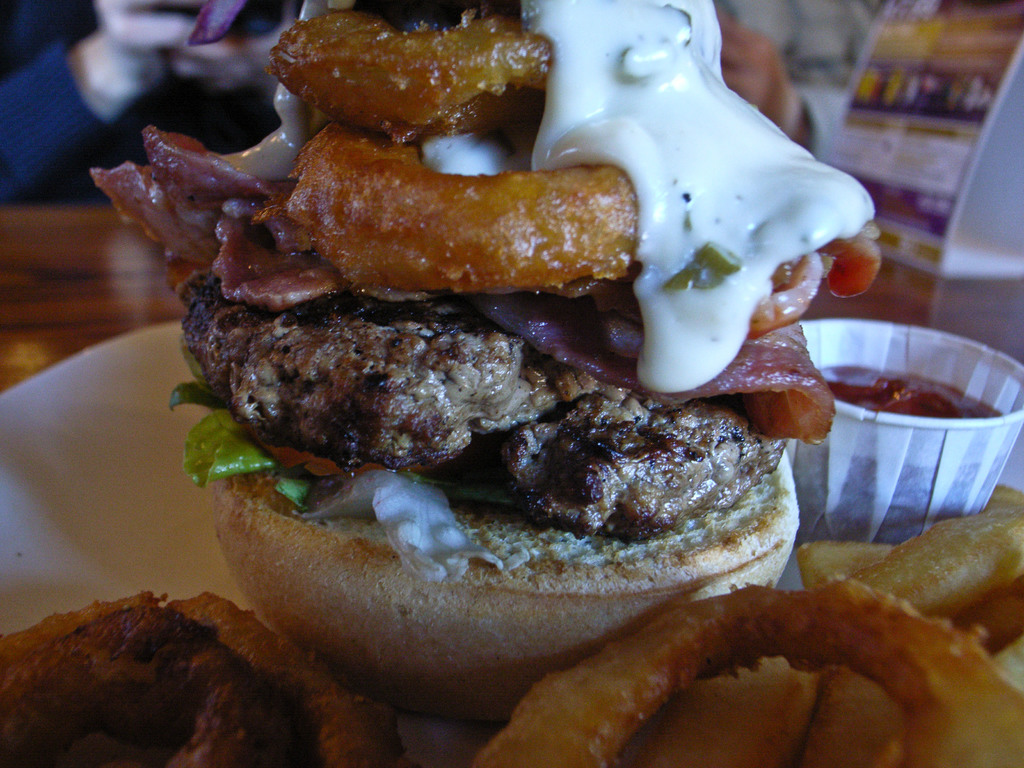Hamburger: (88, 0, 880, 721)
